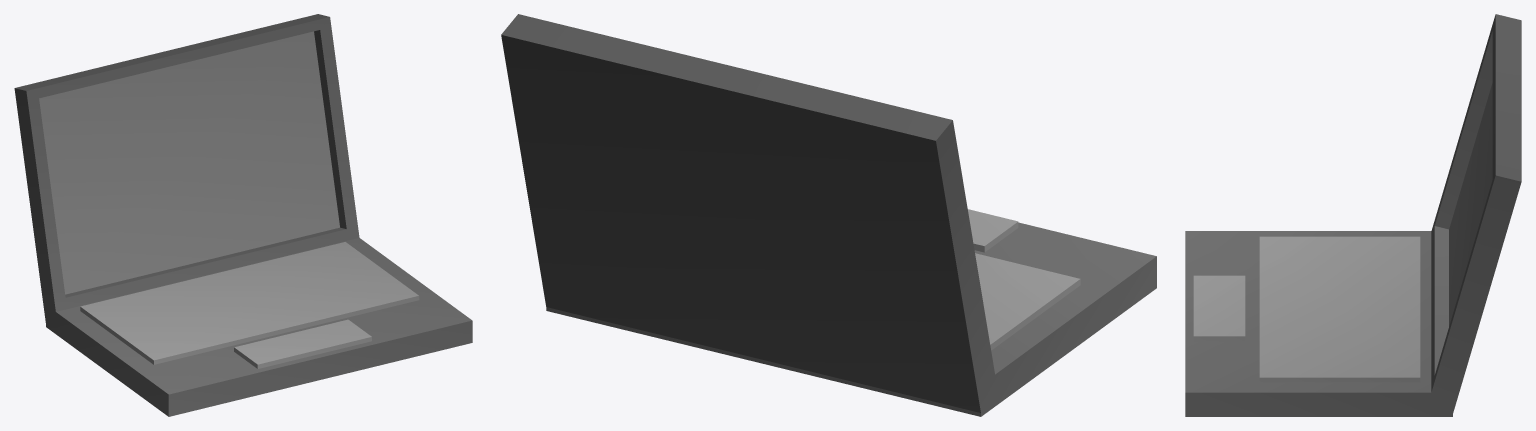
File: Laptop.fbx
The picture shows the model from 3 angles, left to right: view 1: azimuth 30°, elevation 25°; view 2: azimuth 150°, elevation 25°; view 3: azimuth 270°, elevation 25°; orthographic projection. The views are drawn at different scales.
Visible parts, largest first — view 1: Laptop; view 2: Laptop; view 3: Laptop.
Boxes of the visible parts, x1,y1,x2,y2 form: Laptop: (14, 14, 472, 416); Laptop: (501, 14, 1156, 416); Laptop: (1185, 14, 1521, 416).
Size of the model in its own units: 34.15 by 23.82 by 30.06.
